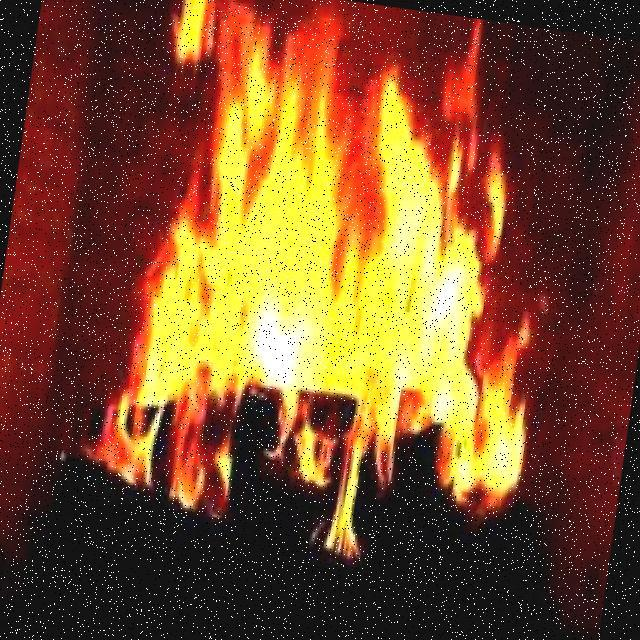Fire: (121, 27, 561, 488)
